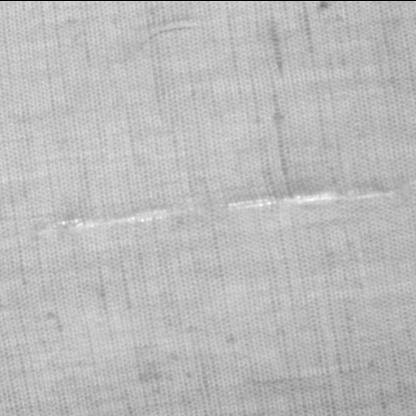thread error: (32, 179, 395, 232)
